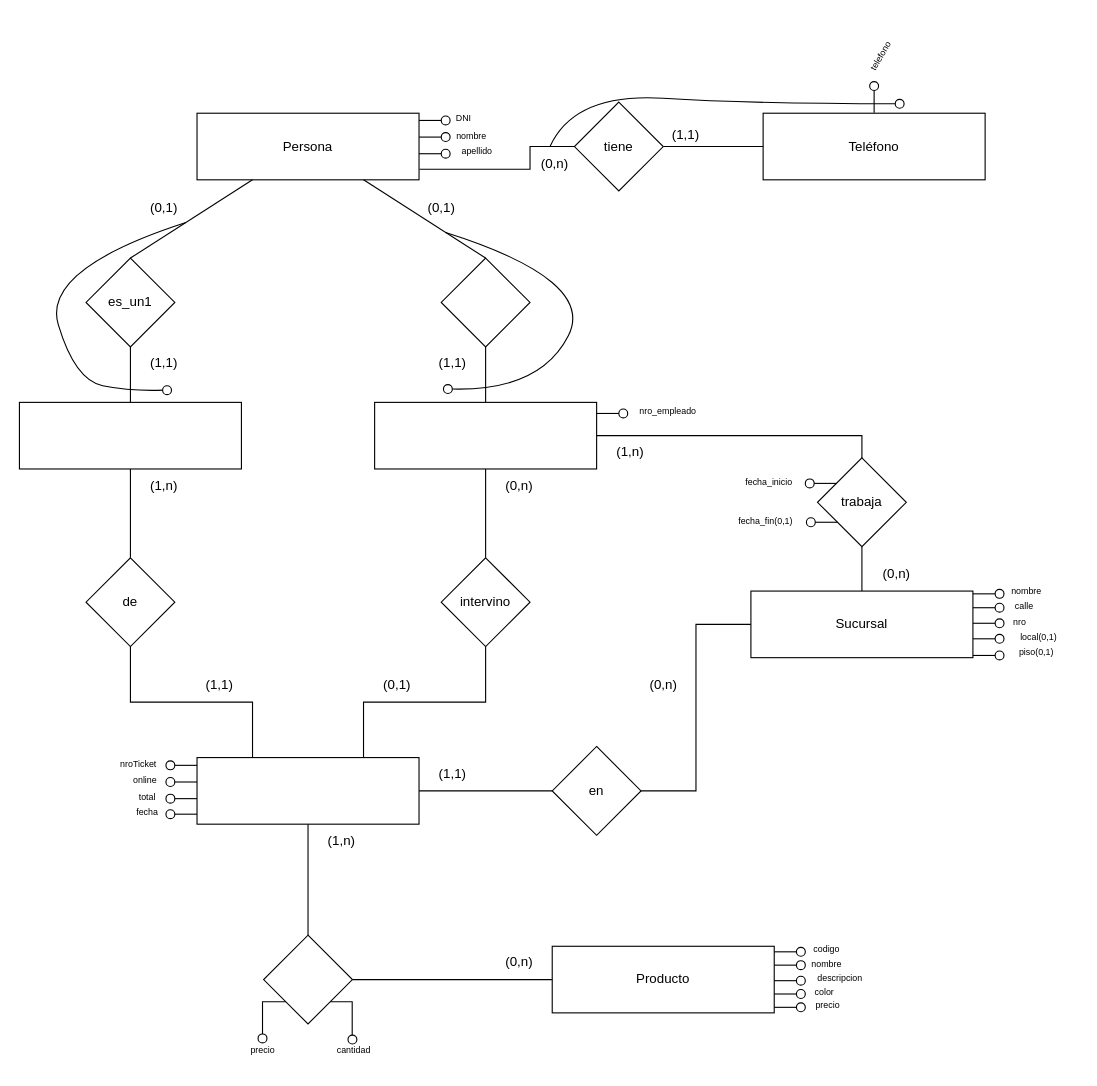
Image size: 1097x1086. Some labels were removed from this diagram. Each missing label, with the box of its shape:
Cliente: (18, 401, 241, 469)
contiene: (263, 934, 352, 1024)
Empleado: (374, 401, 597, 469)
es_un2: (440, 257, 530, 347)
Venta: (196, 756, 419, 824)
